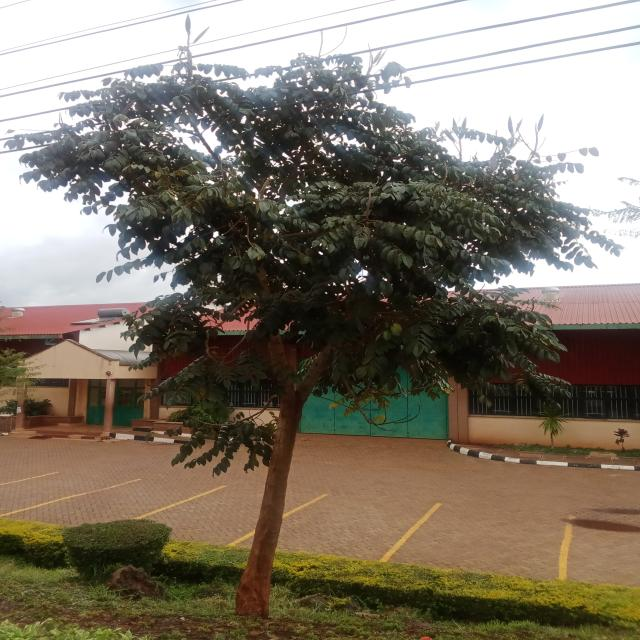Polyscias Kikuyensis: (10, 17, 635, 613)
